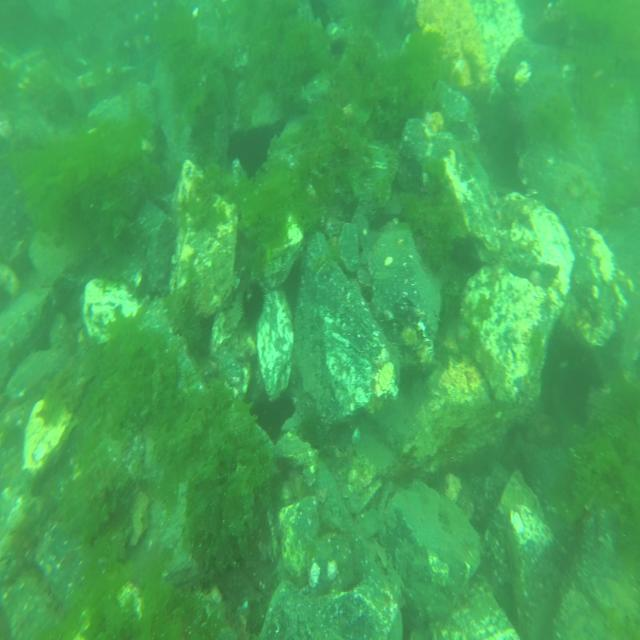echinus: (240, 280, 267, 324)
